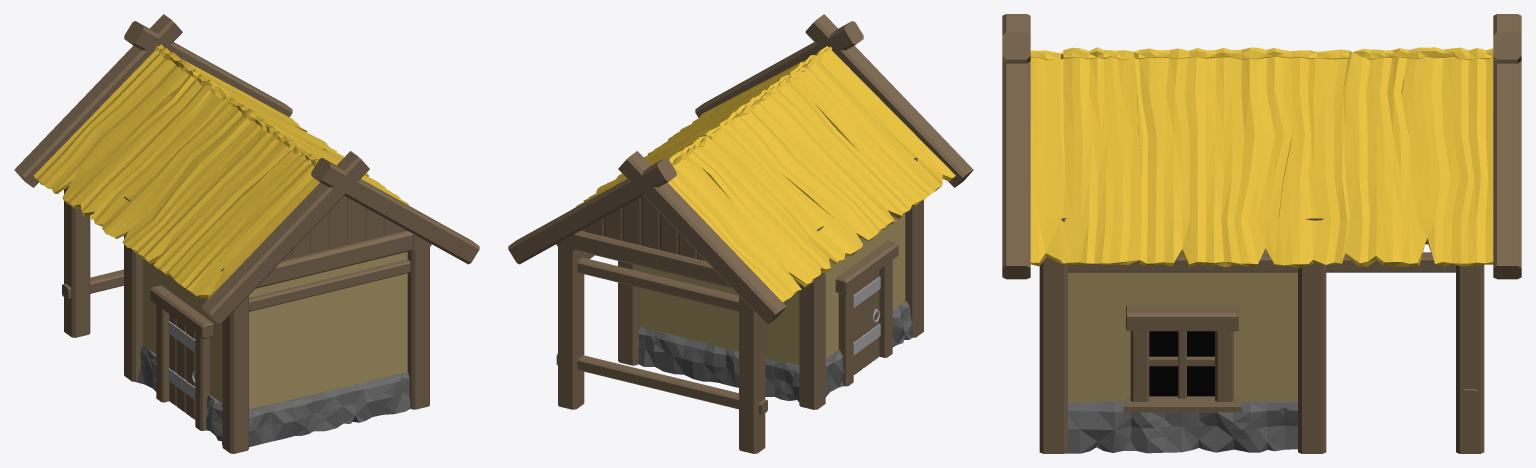
Rendered from House 5.fbx.
3 views of the same model, side by side, from view 1: azimuth 30°, elevation 25°; view 2: azimuth 150°, elevation 25°; view 3: azimuth 270°, elevation 25° (orthographic). The views are drawn at different scales.
Visible parts, largest first — view 1: House 5; view 2: House 5; view 3: House 5.
Part boxes in pixels (x1,y1,x2,y2): House 5: (14,14,479,453); House 5: (508,14,973,453); House 5: (1002,14,1521,453).
Bounding box in the file's own units: 5.28 × 5.24 × 6.69.
